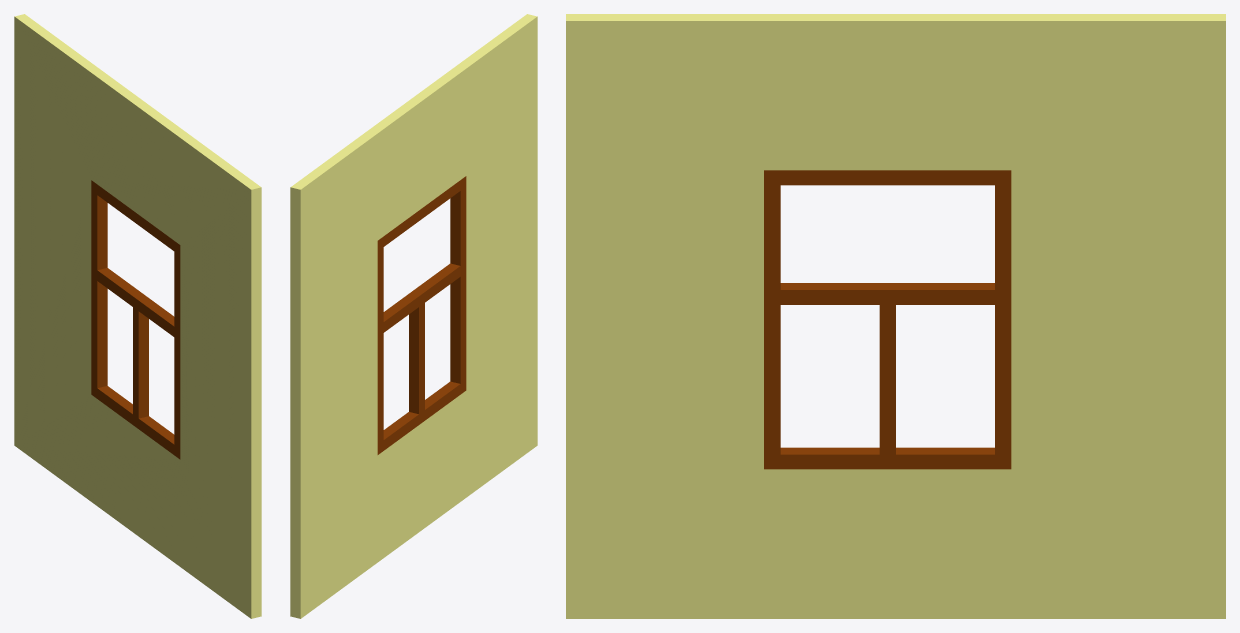
Rendered from wall with window.obj.
3 views of the same model, side by side, from view 1: azimuth 30°, elevation 25°; view 2: azimuth 150°, elevation 25°; view 3: azimuth 270°, elevation 25° (orthographic). The views are drawn at different scales.
Bounding box in the file's own units: 0.1 × 4 × 4.
Materials: 1 (1 with a texture image).
